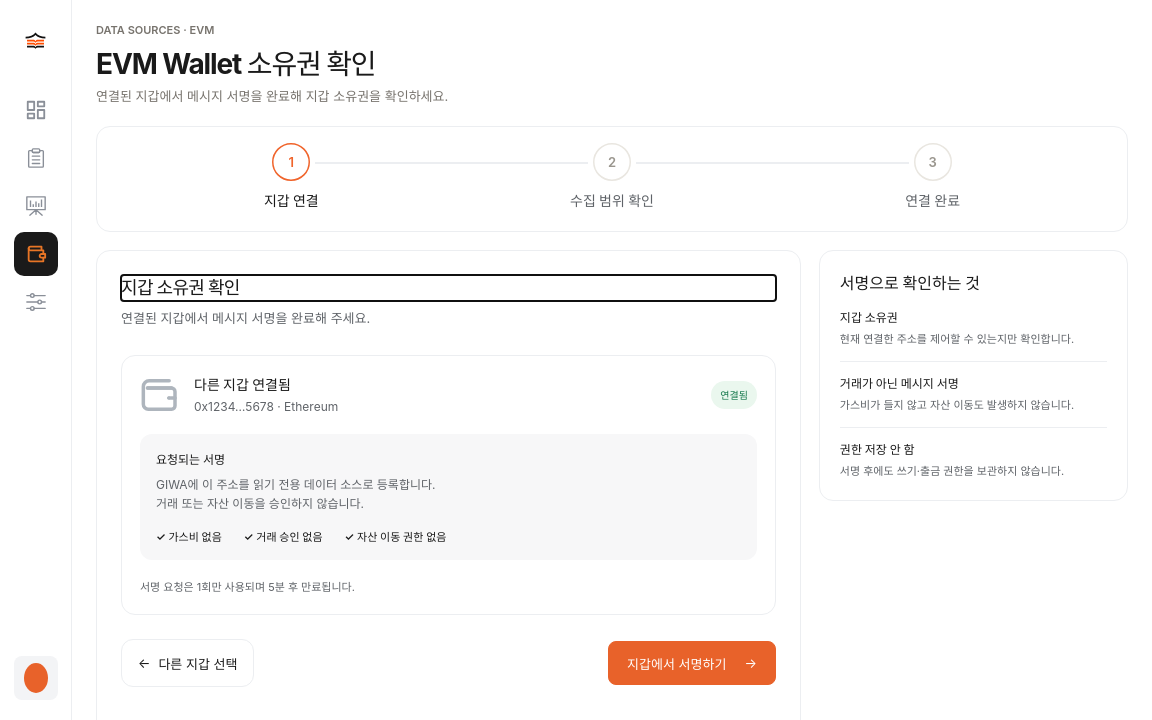
Test: EvmWalletConnectionPage › completes the Figma wallet connection, signature, scope, and backfill flow
Expected: the heading "지갑 소유권 확인" is shown, [121,277,240,298]
Expected: the text "0x1234…5678 · Ethereum" is shown, [194,399,338,414]
Click the button "지갑에서 서명하기 →" at coordinates (692, 663), box [608,641,776,685]
(page scrolled)
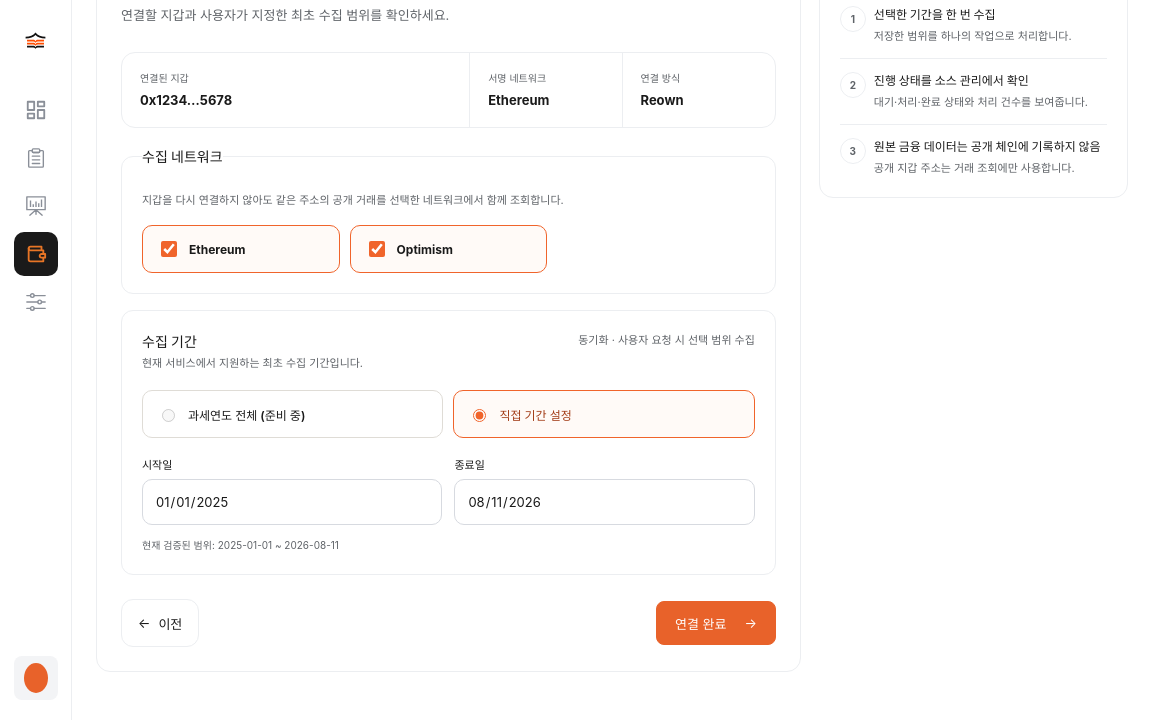
Expected: the checkbox labelled "Ethereum" is checked, [161,241,177,257]
Expected: the checkbox labelled "Optimism" is checked, [369,241,385,257]
Expected: the checkbox labelled "Optimism" is enabled, [369,241,385,257]
Click the button "연결 완료 →" at coordinates (716, 623), box [656,601,776,645]
(page scrolled)
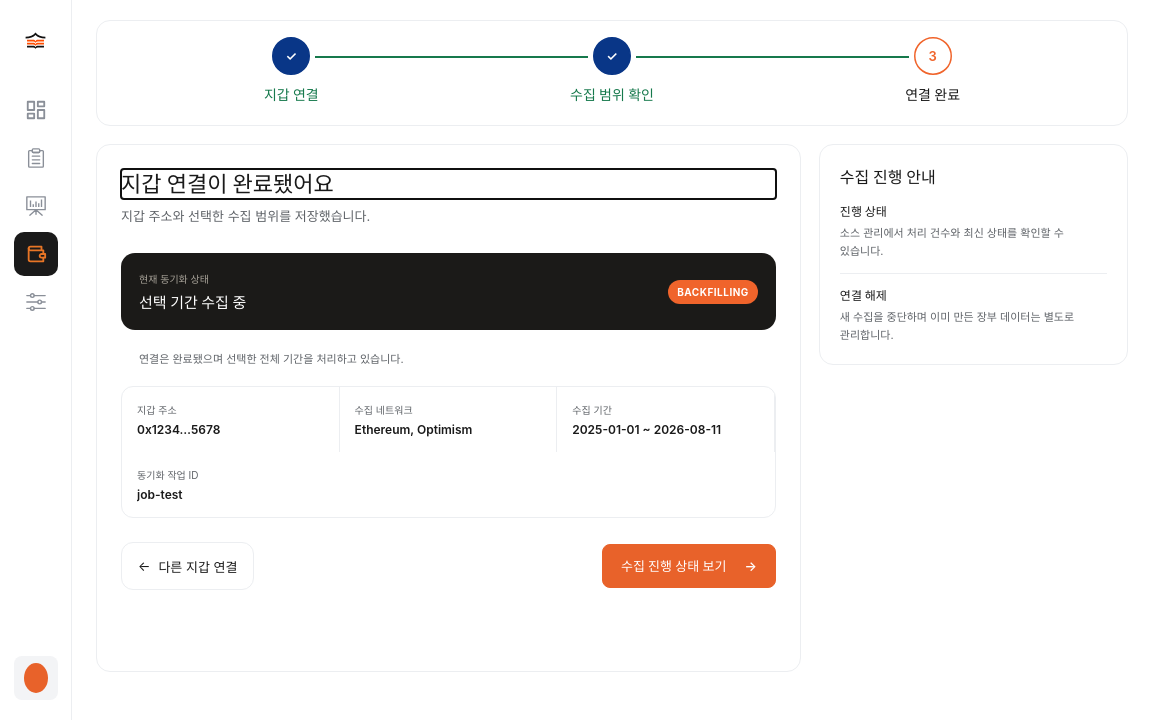
Expected: the heading "지갑 연결이 완료됐어요" is shown, [121,171,334,197]
Expected: the text "BACKFILLING" is shown, [668,280,758,304]
Expected: the text "선택 기간 수집 중" is shown, [139,293,246,312]
